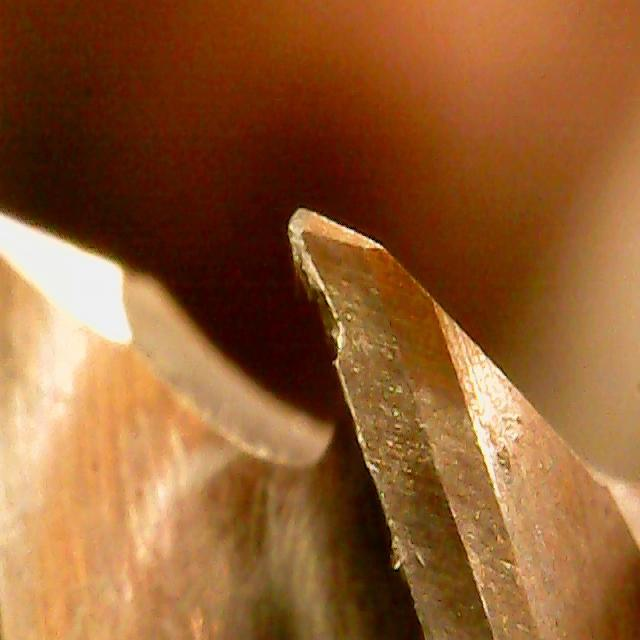Tool-wear-class-1: (285, 196, 419, 479)
